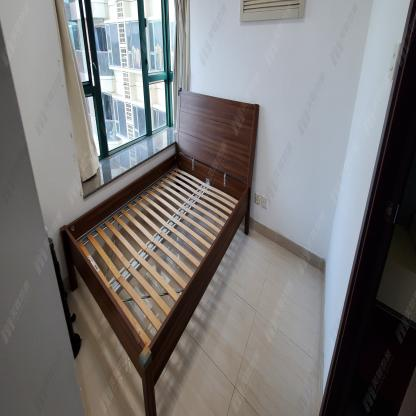Bed: (60, 84, 261, 416)
Windowsill: (53, 0, 191, 202)
